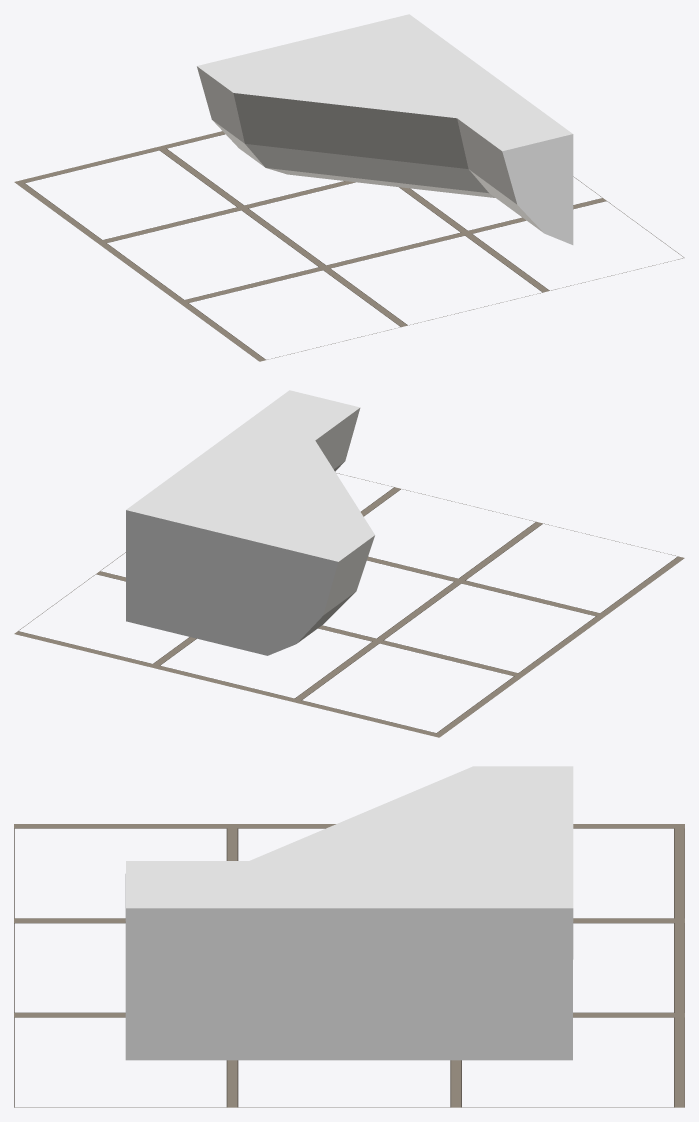
The model's file is Basic_Esse_Under_2x2.glb.
3 renders of one model, top to bottom at view 1: azimuth 30°, elevation 25°; view 2: azimuth 150°, elevation 25°; view 3: azimuth 270°, elevation 25°, orthographic. The views are drawn at different scales.
Visible parts, largest first — view 1: Basic_Esse_Under_2x2, Floor; view 2: Basic_Esse_Under_2x2, Floor; view 3: Basic_Esse_Under_2x2, Floor.
Part boxes in pixels (x1,y1,x2,y2): Basic_Esse_Under_2x2: (197,14,573,244); Floor: (14,131,684,361); Basic_Esse_Under_2x2: (126,390,374,655); Floor: (14,473,684,737); Basic_Esse_Under_2x2: (125,766,573,1060); Floor: (14,824,684,1107).
Bounding box in the file's own units: 300 × 75 × 300.
Materials: 3 (1 with a texture image).
